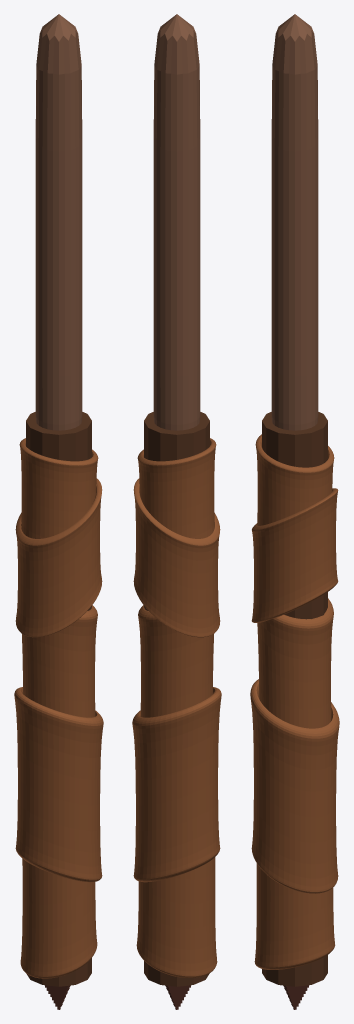
File: Wand 314.glb
3 views of the same model, side by side, from view 1: azimuth 30°, elevation 25°; view 2: azimuth 150°, elevation 25°; view 3: azimuth 330°, elevation 25° (orthographic).
Parts seen in each view (by area): view 1: GeneratedWand; view 2: GeneratedWand; view 3: GeneratedWand.
Part boxes in pixels (x1,y1,x2,y2): GeneratedWand: (14,14,103,1009); GeneratedWand: (132,14,221,1009); GeneratedWand: (250,14,339,1009).
Size of the model in its own units: 0.0408 by 0.502 by 0.0408.
